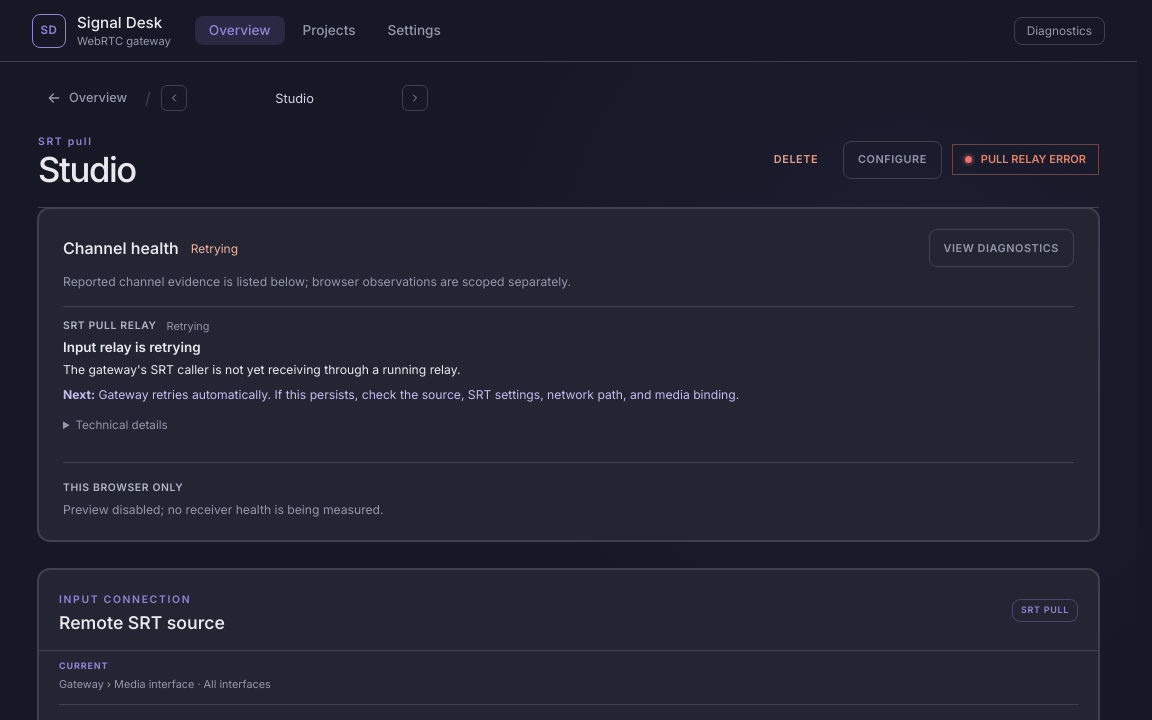
Test case: dashboard navigation › refreshes health from existing runtime polls without retaining cleared issues or leaking across navigation
Check: the element "Channel health" shows "Input relay is retrying", box top-left (63, 339), bottom-right (201, 355)
Click the button named "Next channel" at [415, 98], box top-left (402, 85), bottom-right (428, 111)
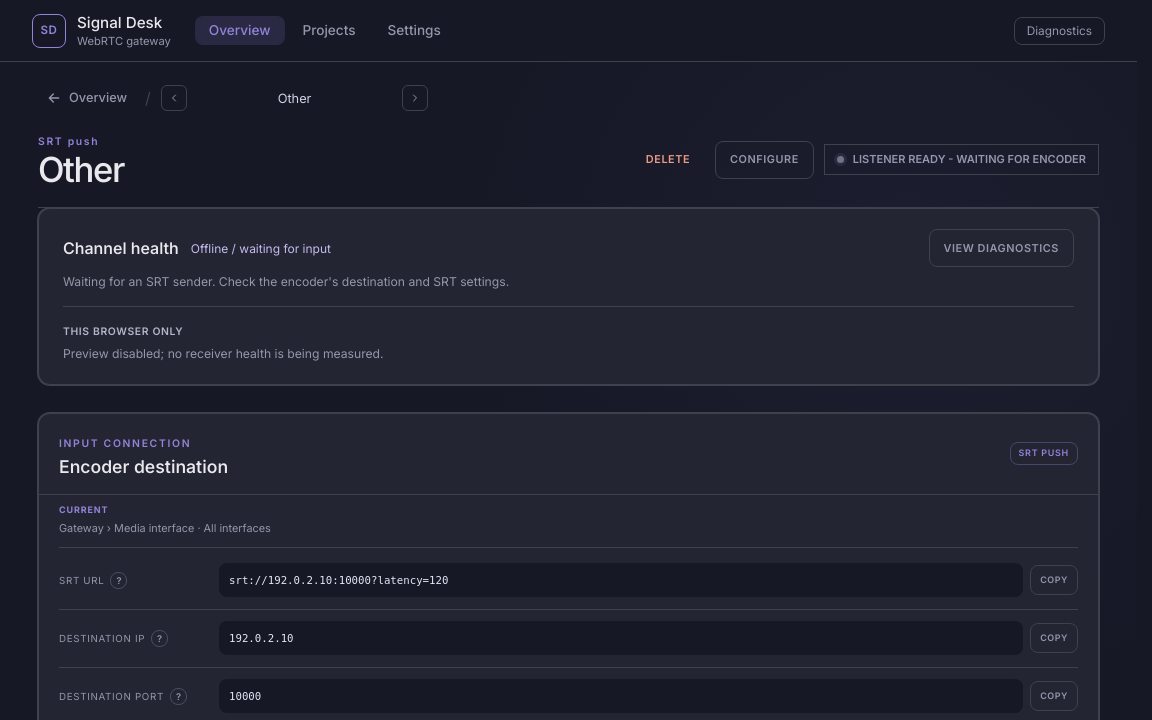
Check: the heading "Channel health" no longer shows "Input relay is retrying"
Click the button named "Previous channel" at [174, 98], box top-left (161, 85), bottom-right (187, 111)
Wait 4000 ms
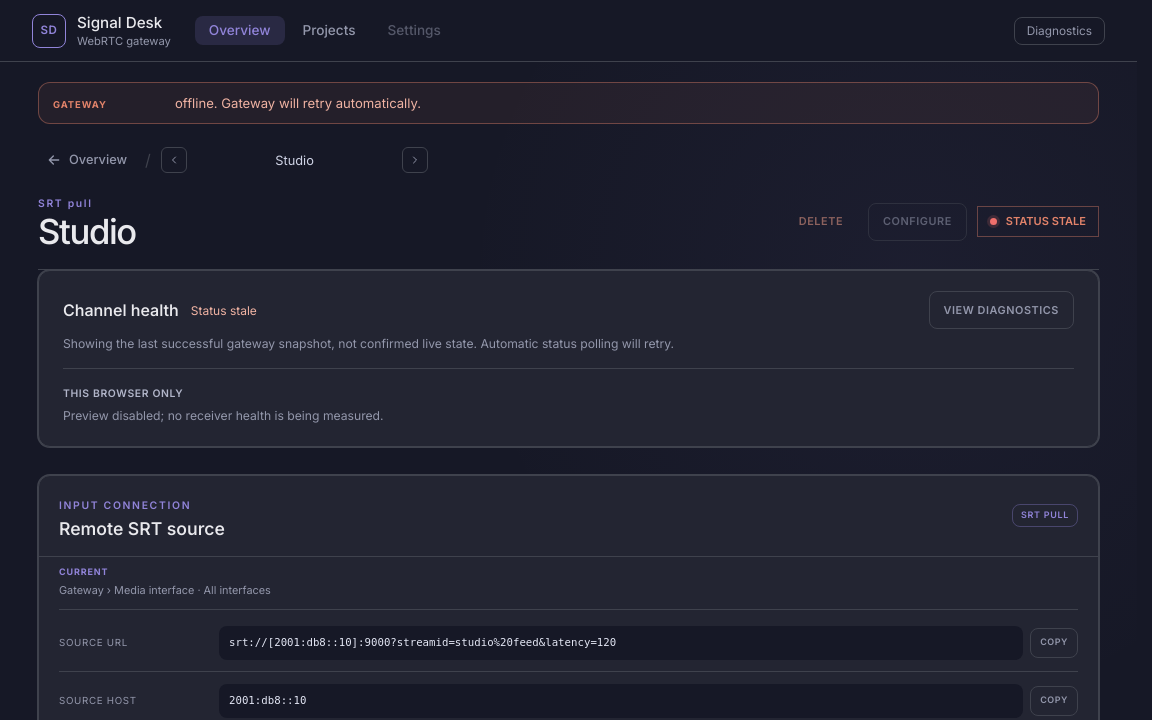
Check: the heading "Input relay is retrying" is not shown
Check: the text "Status stale" is shown, box top-left (191, 303), bottom-right (257, 318)
